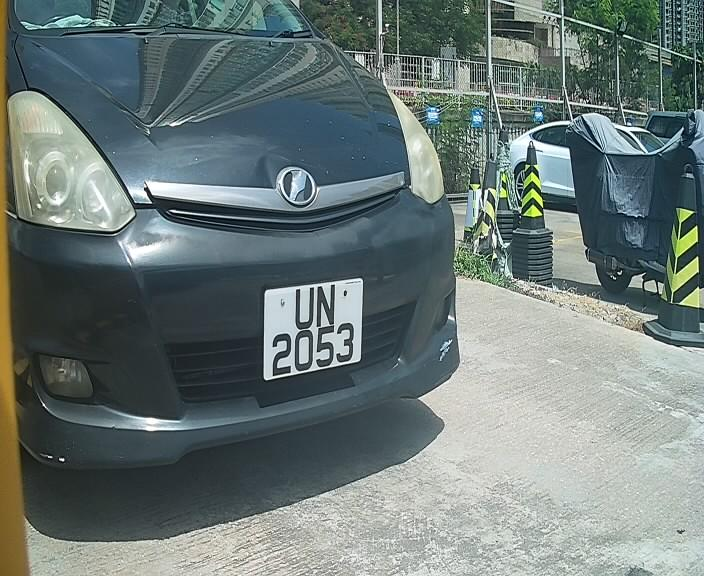License Plate: (255, 273, 371, 389)
